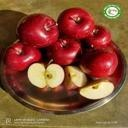apple: (26, 62, 64, 90)
